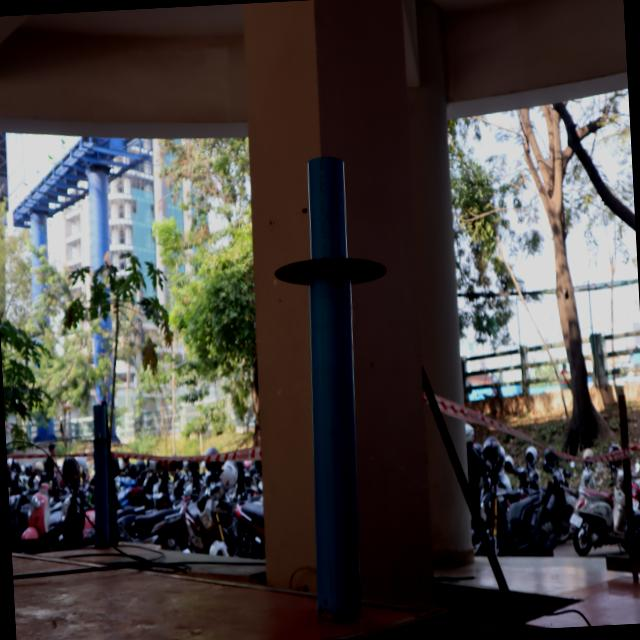pole: (262, 148, 398, 377)
